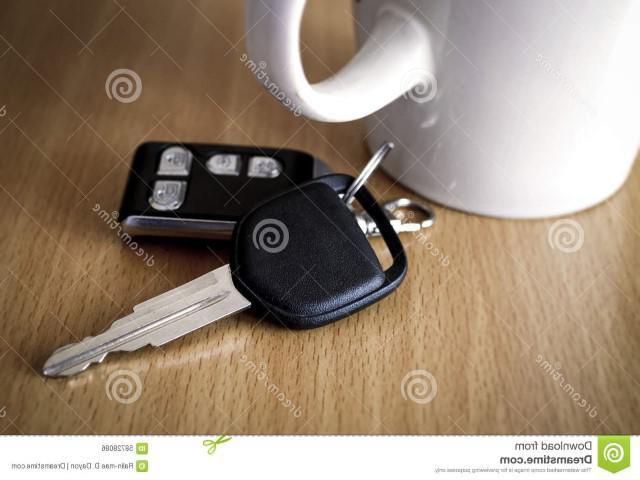key: (41, 181, 407, 407)
